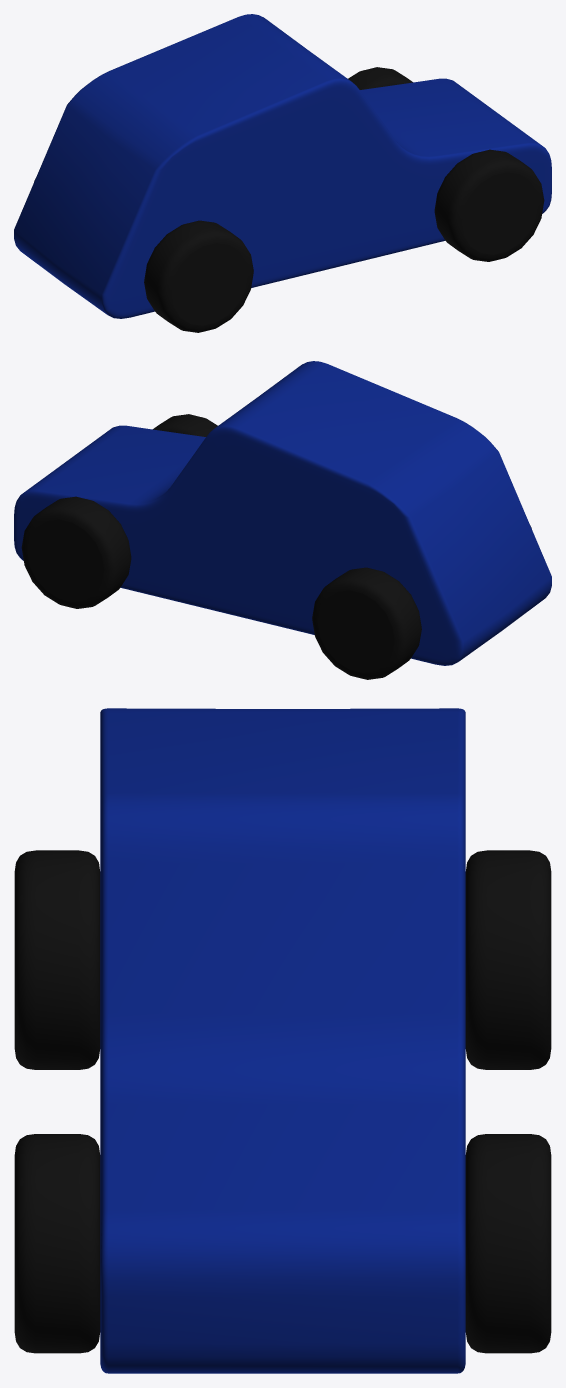
File: Toy_Car_1.fbx
3 views of the same model, one above another, from view 1: azimuth 30°, elevation 25°; view 2: azimuth 150°, elevation 25°; view 3: azimuth 270°, elevation 25° (orthographic). The views are drawn at different scales.
Visible parts, largest first — view 1: Toy_Car; view 2: Toy_Car; view 3: Toy_Car.
Boxes of the visible parts, x1,y1,x2,y2 form: Toy_Car: [14, 14, 551, 332]; Toy_Car: [14, 361, 551, 679]; Toy_Car: [14, 708, 551, 1373].
Bounding box in the file's own units: 2.08 × 0.8898 × 1.07.
